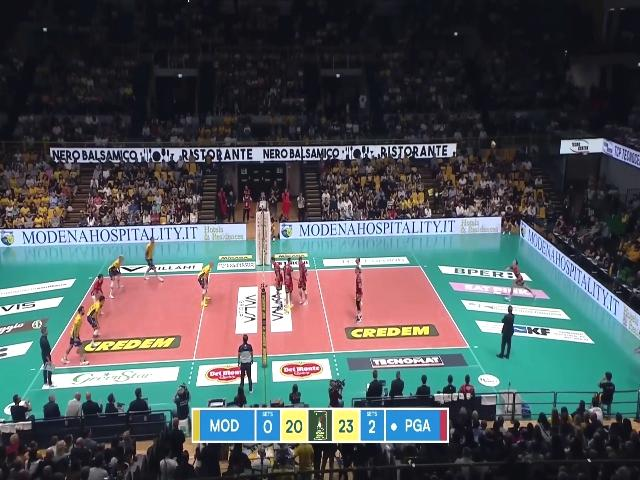volleyball court: (56, 264, 469, 365)
